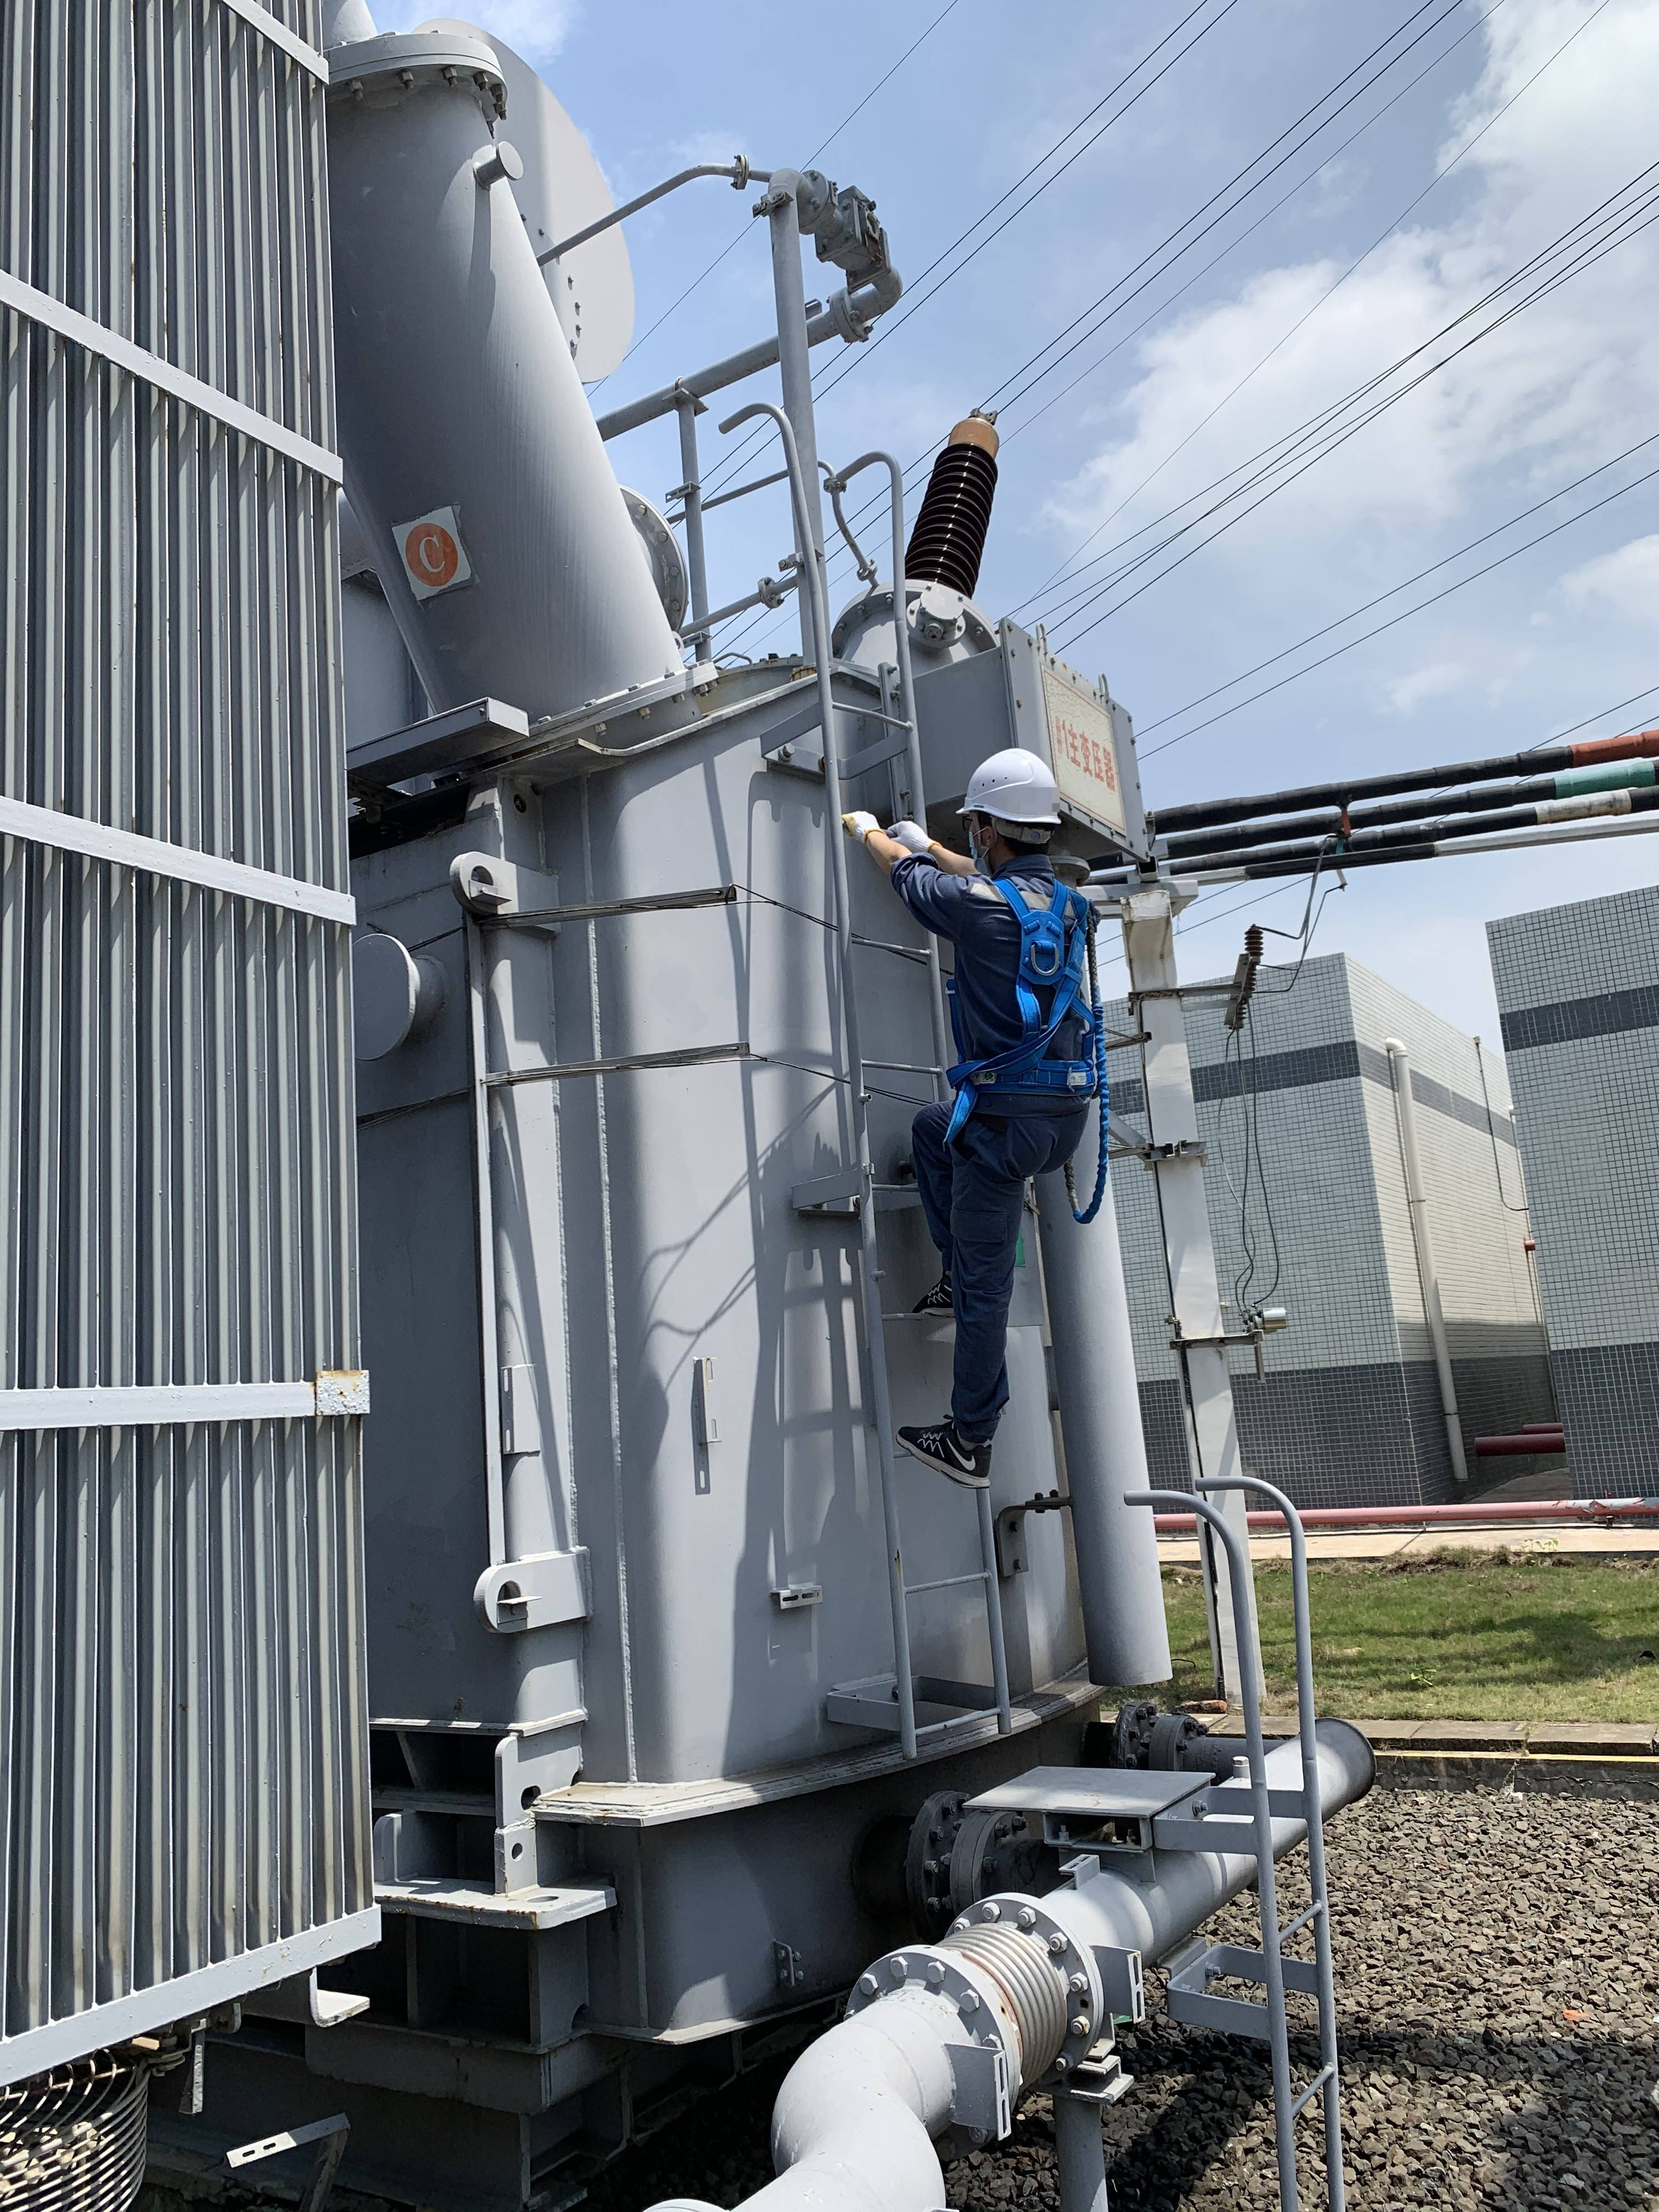downsuit: (906, 1118, 1100, 1433)
upsuit: (887, 857, 1126, 1097)
wrongtop: (868, 822, 938, 895)
